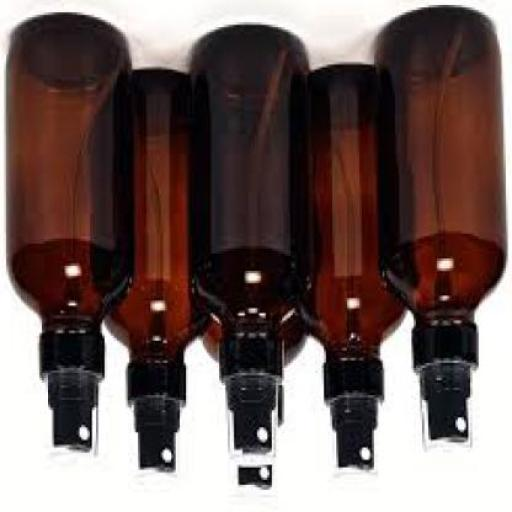glass: (6, 16, 138, 336), (378, 8, 508, 330), (192, 28, 316, 340), (305, 64, 410, 362), (107, 70, 213, 362), (205, 308, 313, 380)
plastic: (226, 378, 280, 472), (46, 376, 103, 465), (420, 368, 474, 452), (334, 398, 381, 484), (136, 400, 184, 482), (236, 435, 282, 502)
